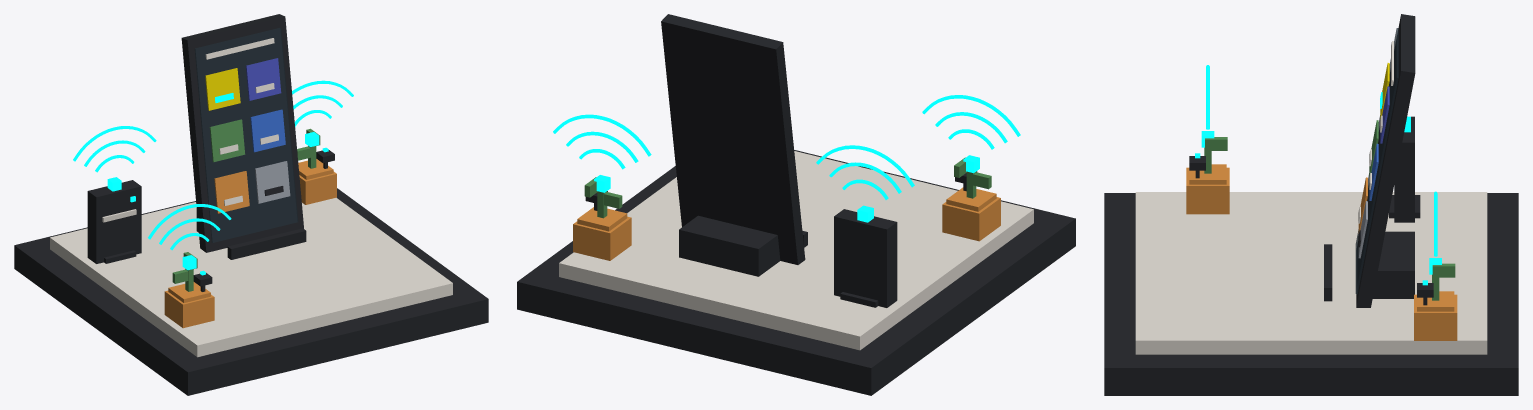
File: mobile_scene.glb
3 views of the same model, side by side, from view 1: azimuth 30°, elevation 25°; view 2: azimuth 150°, elevation 25°; view 3: azimuth 270°, elevation 25° (orthographic). The views are drawn at different scales.
Visible parts, largest first — view 1: PROP_plinth, HERO_mobile_phone, PROP_mobile_phone_screen, PROP_mobile_home_hub, PROP_iot_pot_a, PROP_iot_pot_b, PROP_mobile_stand, PROP_app_plantpulse, PROP_app_settings, PROP_app_messages, PROP_app_ee, PROP_app_bt (+3 smaller); view 2: PROP_plinth, HERO_mobile_phone, PROP_mobile_home_hub, PROP_mobile_stand, PROP_iot_pot_a, PROP_iot_pot_b, PROP_iot_plant_b, PROP_iot_plant_a, FX_signal_arc_plant_b_2, FX_signal_arc_hub_2, FX_signal_arc_plant_a_2; view 3: PROP_plinth, HERO_mobile_phone, PROP_mobile_stand, PROP_iot_pot_a, PROP_iot_pot_b, PROP_mobile_home_hub, PROP_mobile_phone_screen, PROP_iot_plant_b, PROP_iot_plant_a.
Boxes of the visible parts, x1,y1,x2,y2 form: PROP_plinth: (14,188,488,395); HERO_mobile_phone: (181,14,303,252); PROP_mobile_phone_screen: (194,27,298,242); PROP_mobile_home_hub: (87,180,141,263); PROP_iot_pot_a: (164,282,214,328); PROP_iot_pot_b: (298,159,336,204); PROP_mobile_stand: (196,210,306,259); PROP_app_plantpulse: (209,119,245,162); PROP_app_settings: (255,161,290,203); PROP_app_messages: (250,109,285,152); PROP_app_ee: (205,68,240,110); PROP_app_bt: (246,58,281,100); PROP_plinth: (517,150,1075,395); HERO_mobile_phone: (661,14,805,264); PROP_mobile_home_hub: (834,209,897,307); PROP_mobile_stand: (679,215,807,276); PROP_iot_pot_a: (942,187,1000,241); PROP_iot_pot_b: (573,207,631,260); PROP_iot_plant_b: (584,177,622,218); PROP_iot_plant_a: (954,157,991,198); FX_signal_arc_plant_b_2: (553,114,651,156); FX_signal_arc_hub_2: (816,145,914,187); FX_signal_arc_plant_a_2: (922,95,1020,136); PROP_plinth: (1104,192,1518,395); HERO_mobile_phone: (1356,14,1415,307); PROP_mobile_stand: (1324,231,1414,301); PROP_iot_pot_a: (1186,164,1229,214); PROP_iot_pot_b: (1414,291,1457,340); PROP_mobile_home_hub: (1389,116,1420,222); PROP_mobile_phone_screen: (1355,28,1398,294); PROP_iot_plant_b: (1432,263,1455,300); PROP_iot_plant_a: (1204,137,1227,173).
Bounding box in the file's own units: 4.05 × 2.98 × 4.
